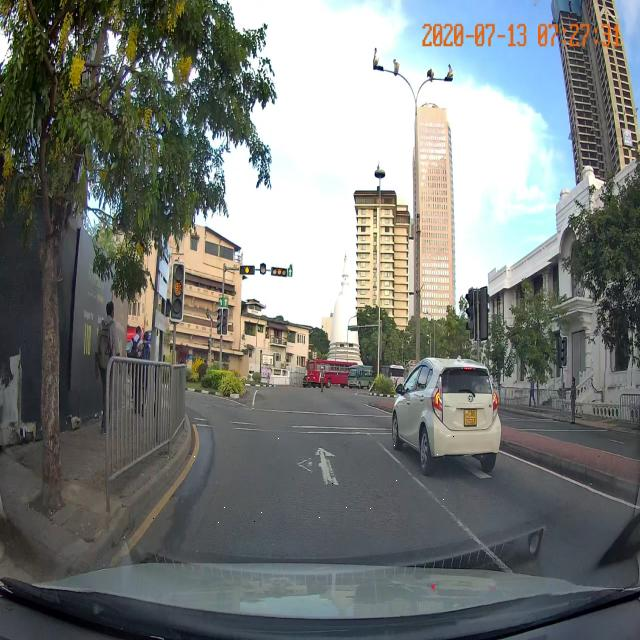forward_lft: (151, 435, 476, 530)
